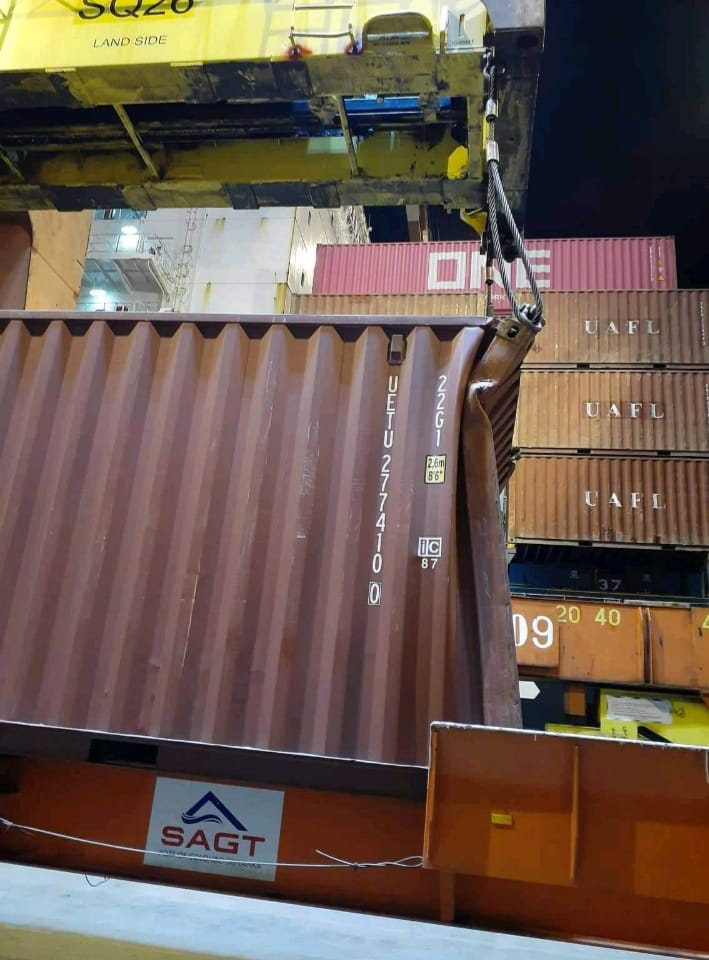moderate: (418, 325, 532, 562)
